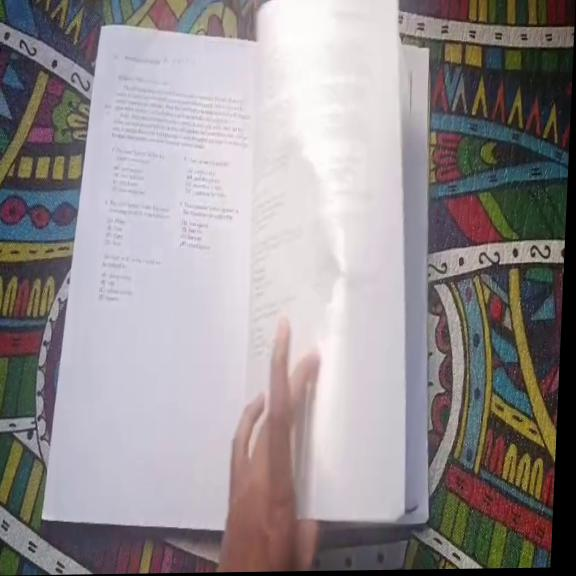Kertas: (43, 27, 256, 529), (247, 0, 406, 524), (79, 40, 246, 528), (400, 46, 429, 524)
